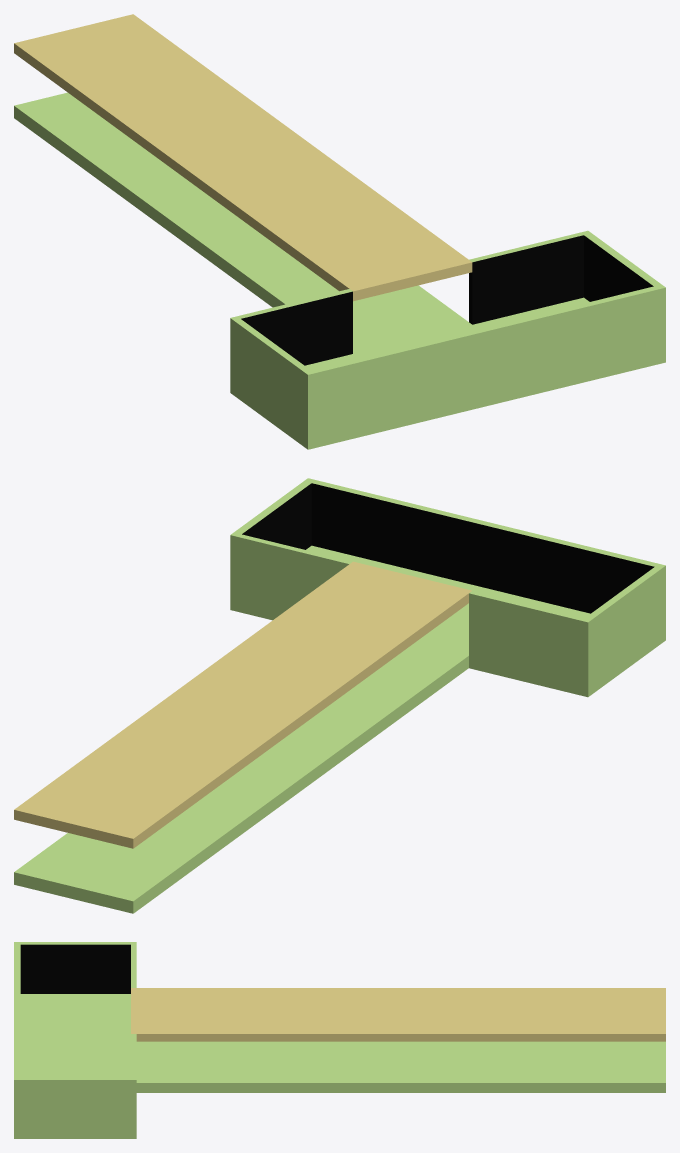
Rendered from MapV1.fbx.
3 renders of one model, top to bottom at view 1: azimuth 30°, elevation 25°; view 2: azimuth 150°, elevation 25°; view 3: azimuth 270°, elevation 25°, orthographic. The views are drawn at different scales.
Visible parts, largest first — view 1: Cube; view 2: Cube; view 3: Cube.
Part boxes in pixels (x1=…): Cube: x1=14, y1=14, x2=665, y2=449; Cube: x1=14, y1=478, x2=665, y2=913; Cube: x1=14, y1=942, x2=665, y2=1138.
Size of the model in its own units: 6000 by 1200 by 12000.
